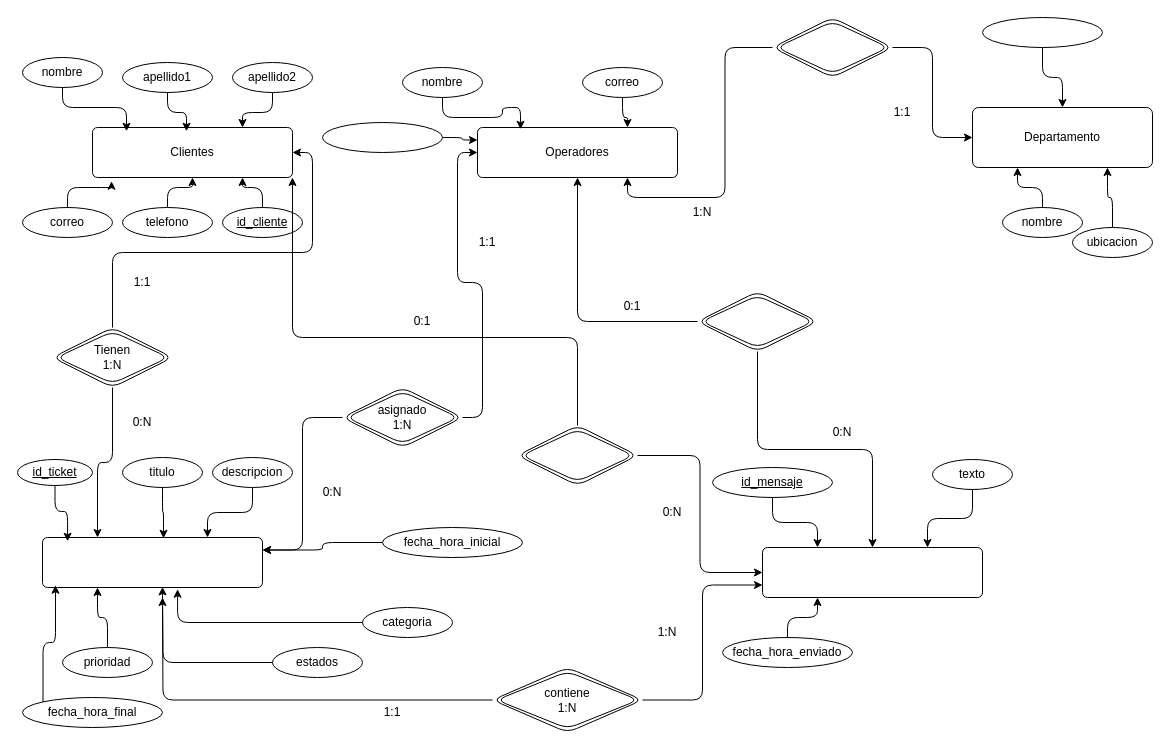
This 1170x750 diagram has some shape labels left out. The centre of each missing label's shape, as x and y in pixels:
"encargado 1:N" goes at point 757,321.
"envia 1:N" goes at point 577,455.
"id_departamento" goes at point 1042,32.
"id_empleado" goes at point 382,137.
"Mensaje" goes at point 872,572.
"pertenece 1:N" goes at point 832,47.
"Ticket" goes at point 152,562.
